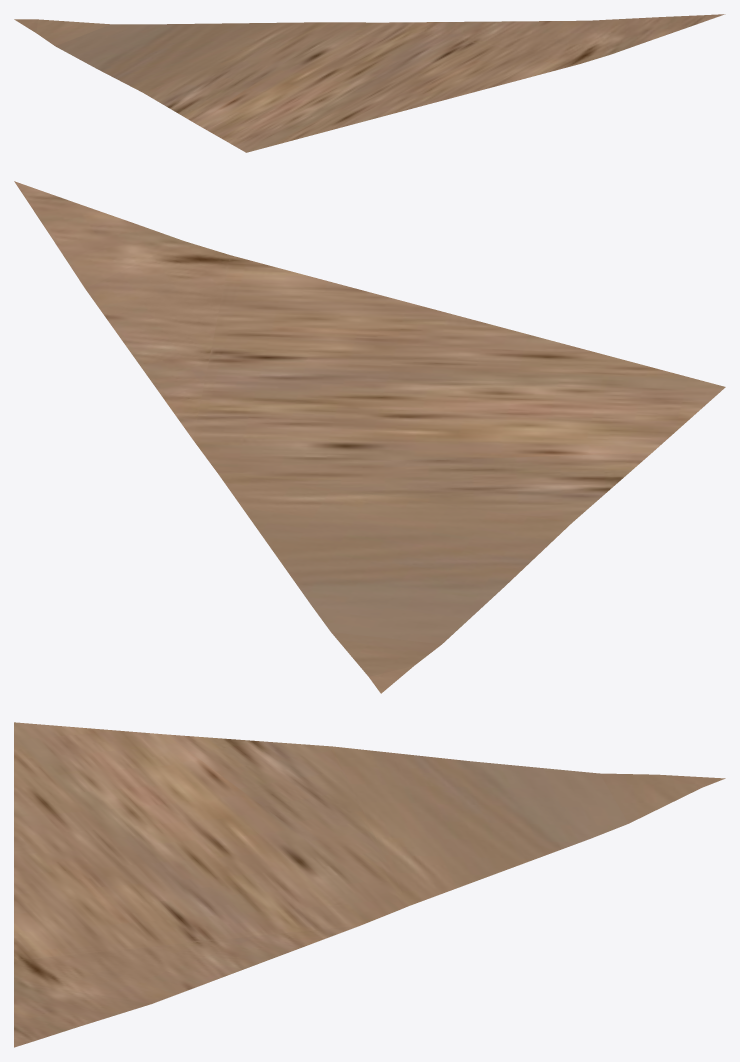
3 renders of one model, top to bottom at view 1: azimuth 30°, elevation 25°; view 2: azimuth 150°, elevation 25°; view 3: azimuth 270°, elevation 25°, orthographic. The views are drawn at different scales.
Size of the model in its own units: 2.56 by 0.2978 by 2.15.
Materials: 1 (1 with a texture image).
